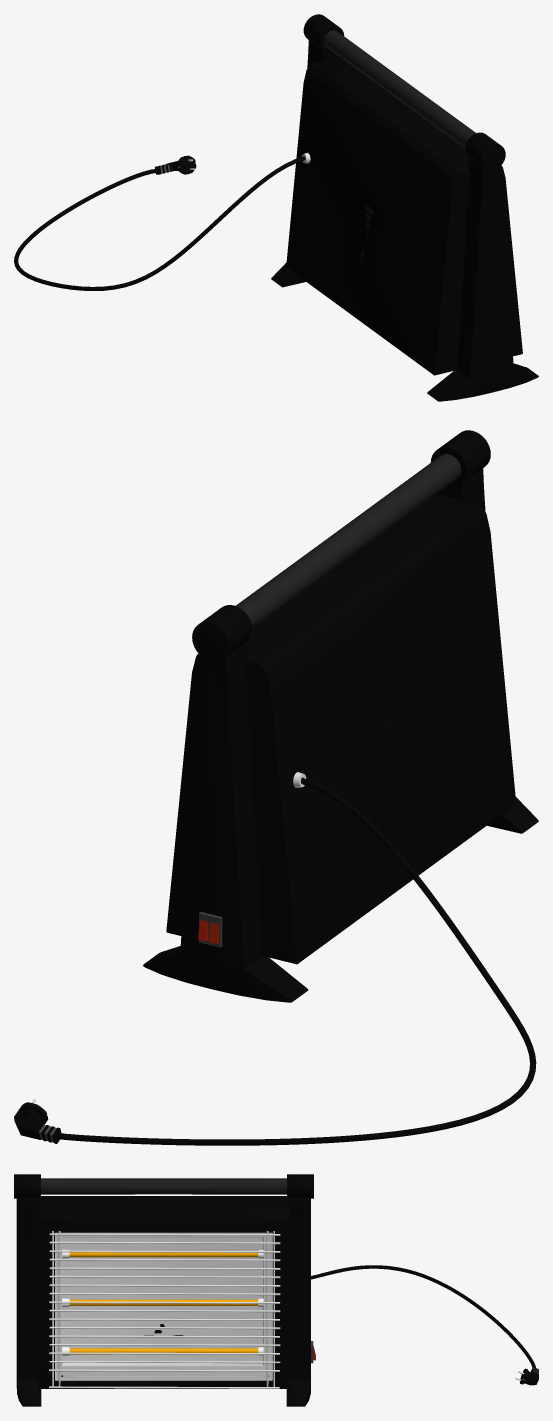
File: heater.fbx
3 renders of one model, top to bottom at view 1: azimuth 30°, elevation 25°; view 2: azimuth 150°, elevation 25°; view 3: azimuth 270°, elevation 25°, orthographic. The views are drawn at different scales.
Visible parts, largest first — view 1: Cube_Cube.001, Cube.003_Cube.004, Cylinder.007_Cylinder.013, Cube.007_Cube.013; view 2: Cube_Cube.001, Cube.003_Cube.004, Cylinder.007_Cylinder.013, Cube.007_Cube.013; view 3: Cube_Cube.001, Cube.003_Cube.004, Cylinder.006_Cylinder.010, Cylinder.001_Cylinder.005, Cylinder.007_Cylinder.013, Cube.007_Cube.013.
Boxes of the visible parts, left/top/right/bottom form: Cube_Cube.001: left=286, top=58, right=522, bottom=375; Cube.003_Cube.004: left=271, top=14, right=538, bottom=401; Cylinder.007_Cylinder.013: left=14, top=156, right=305, bottom=290; Cube.007_Cube.013: left=154, top=155, right=196, bottom=174; Cube_Cube.001: left=166, top=494, right=515, bottom=964; Cube.003_Cube.004: left=143, top=430, right=538, bottom=1002; Cylinder.007_Cylinder.013: left=56, top=778, right=536, bottom=1145; Cube.007_Cube.013: left=14, top=1099, right=61, bottom=1143; Cube_Cube.001: left=38, top=1196, right=289, bottom=1388; Cube.003_Cube.004: left=14, top=1174, right=313, bottom=1406; Cylinder.006_Cylinder.010: left=49, top=1231, right=280, bottom=1388; Cylinder.001_Cylinder.005: left=62, top=1249, right=263, bottom=1355; Cylinder.007_Cylinder.013: left=311, top=1265, right=535, bottom=1367; Cube.007_Cube.013: left=515, top=1367, right=538, bottom=1385.
Size of the model in its own units: 834 by 660 by 1490.
